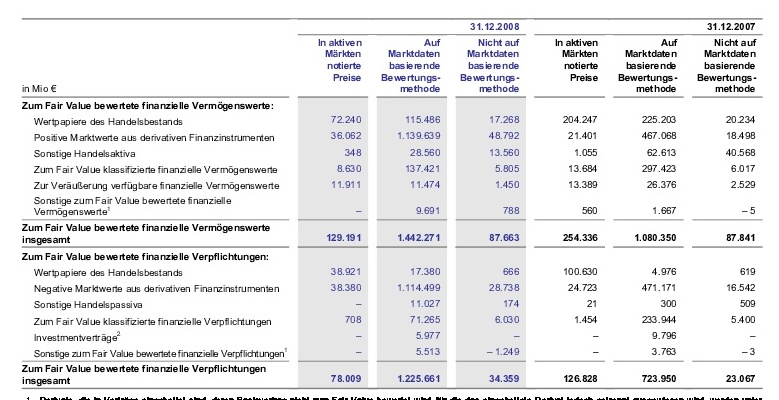table: (0, 0, 779, 400)
